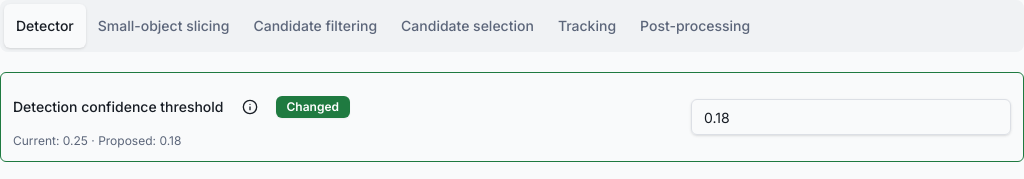
Test: ProductionTrialTuningControls › preserves proposed values while moving between categories
Check: the number field labelled "Detection confidence threshold" holds "0.18", box left=691, top=99, right=1011, bottom=135
Check: the text "Changed" is shown, box left=276, top=96, right=350, bottom=118
Click the tab "Tracking" at (587, 26), box left=546, top=4, right=628, bottom=48
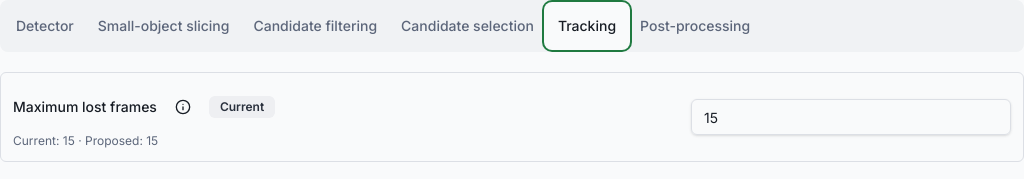
Click the tab "Detector" at (45, 26), box left=4, top=4, right=86, bottom=48
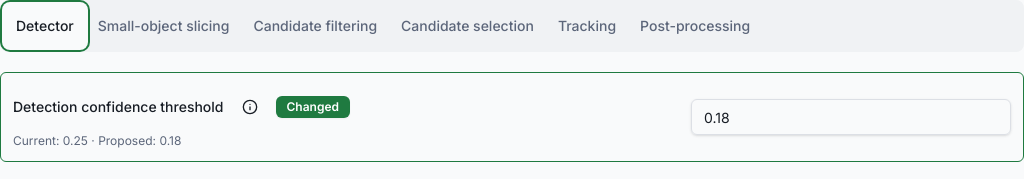
Check: the number field labelled "Detection confidence threshold" holds "0.18", box left=691, top=99, right=1011, bottom=135
Check: the text "Changed" is shown, box left=276, top=96, right=350, bottom=118
